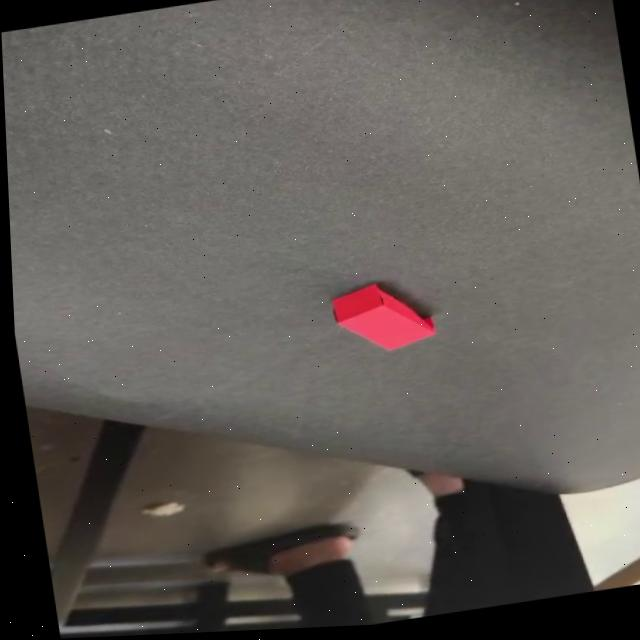red block: (327, 274, 438, 360)
